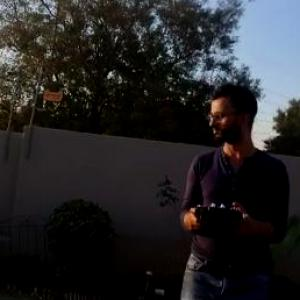follow: (175, 73, 299, 299)
